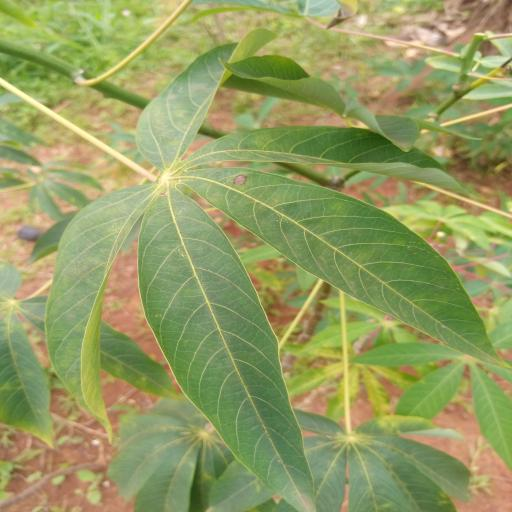Cassava_Mosaic: (40, 40, 508, 506)
